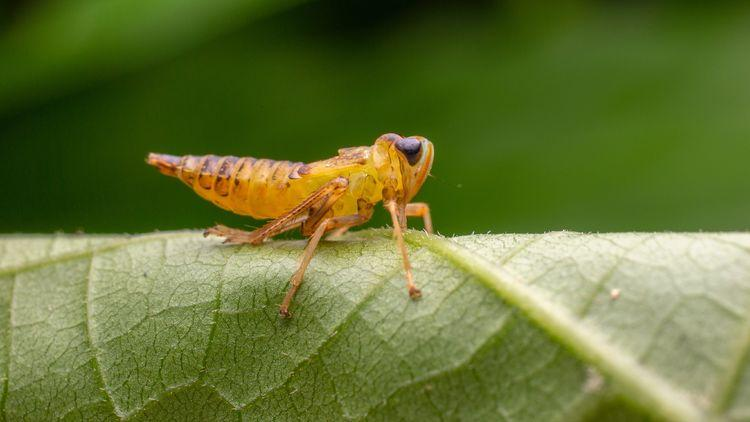Cicadellidae: (145, 133, 435, 320)
